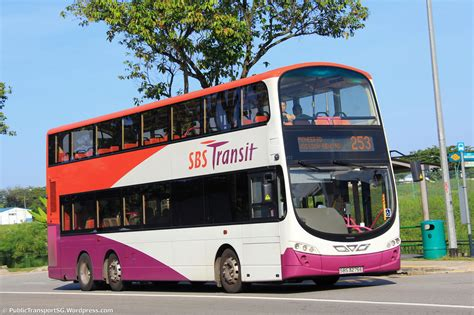bus: (51, 66, 401, 291)
